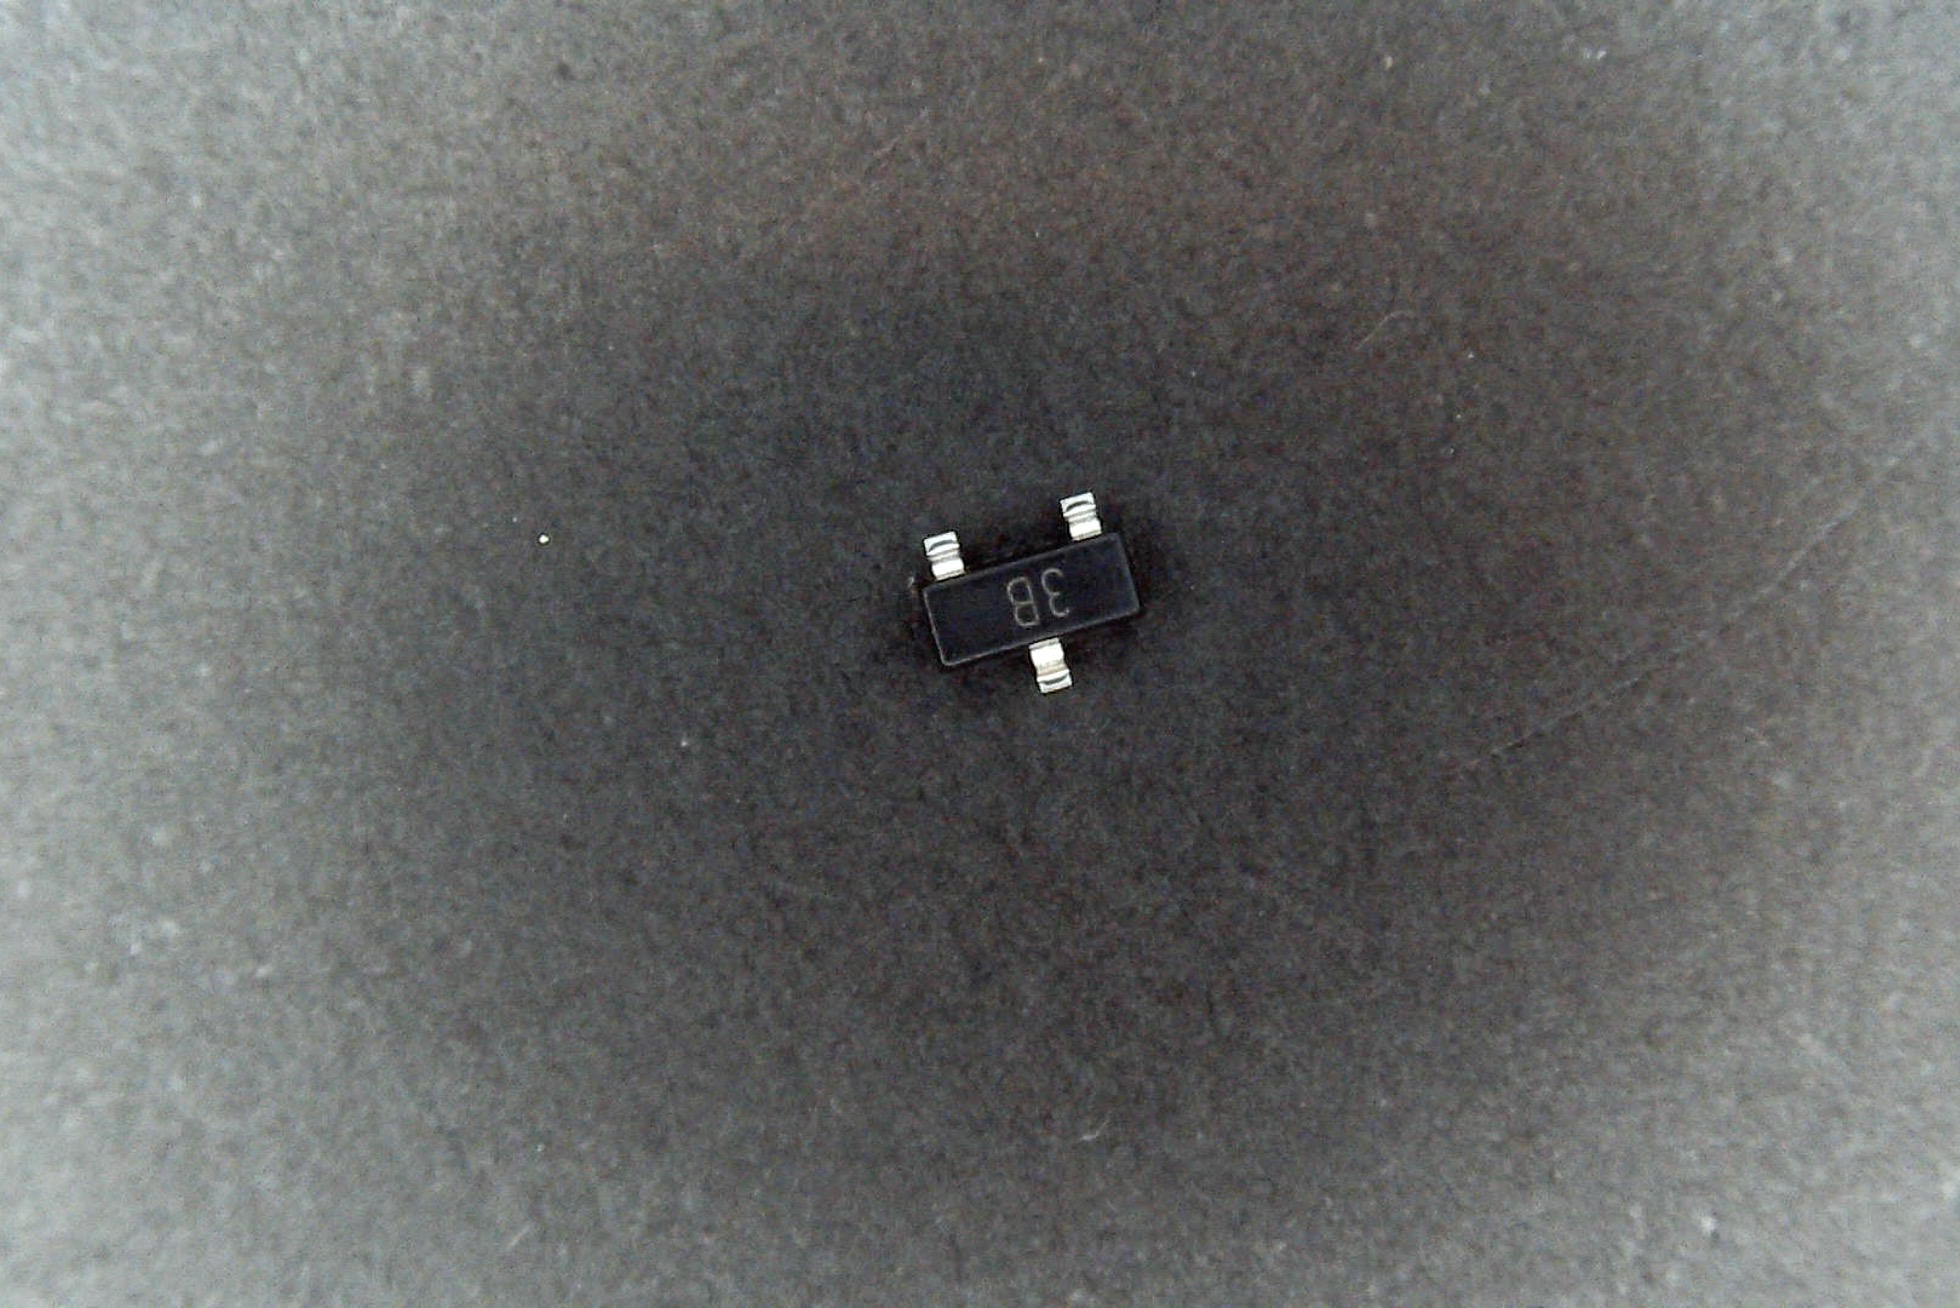bbox: (922, 488, 1143, 695)
